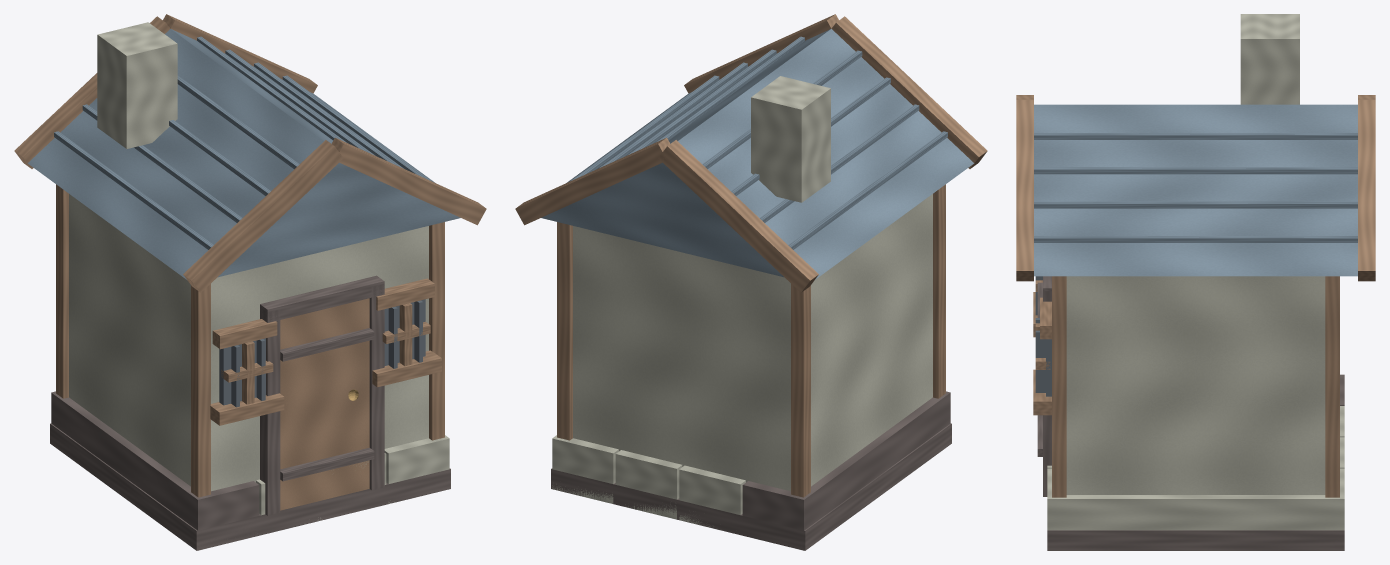
The model's file is lantern-watch-stone-gatehouse__75.glb.
3 views of the same model, side by side, from view 1: azimuth 30°, elevation 25°; view 2: azimuth 150°, elevation 25°; view 3: azimuth 270°, elevation 25° (orthographic).
Visible parts, largest first — view 1: lantern-watch-gatehouse; view 2: lantern-watch-gatehouse; view 3: lantern-watch-gatehouse.
Boxes of the visible parts, x1,y1,x2,y2 form: lantern-watch-gatehouse: (14, 14, 486, 550); lantern-watch-gatehouse: (515, 14, 987, 550); lantern-watch-gatehouse: (1016, 14, 1375, 550).
Size of the model in its own units: 2.32 by 3.15 by 2.42.
6 materials, 5 textured.
